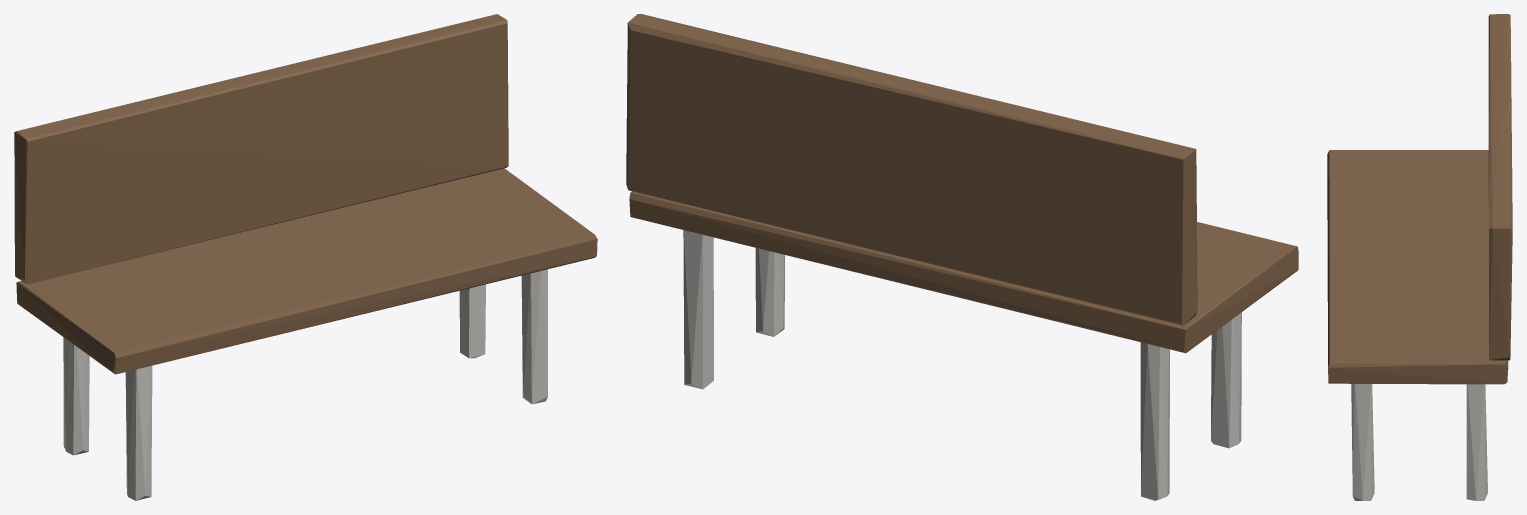
File: SM_Kit_Garden_Bench_LOD2.glb
The picture shows the model from 3 angles, left to right: view 1: azimuth 30°, elevation 25°; view 2: azimuth 150°, elevation 25°; view 3: azimuth 270°, elevation 25°; orthographic projection. The views are drawn at different scales.
Visible parts, largest first — view 1: SM_Kit_Garden_Bench_LOD2; view 2: SM_Kit_Garden_Bench_LOD2; view 3: SM_Kit_Garden_Bench_LOD2.
Part boxes in pixels (left/top/right/bottom): SM_Kit_Garden_Bench_LOD2: left=14, top=14, right=597, bottom=500; SM_Kit_Garden_Bench_LOD2: left=626, top=14, right=1298, bottom=500; SM_Kit_Garden_Bench_LOD2: left=1327, top=14, right=1512, bottom=500.
Size of the model in its own units: 1.4 by 0.8786 by 0.5077.
